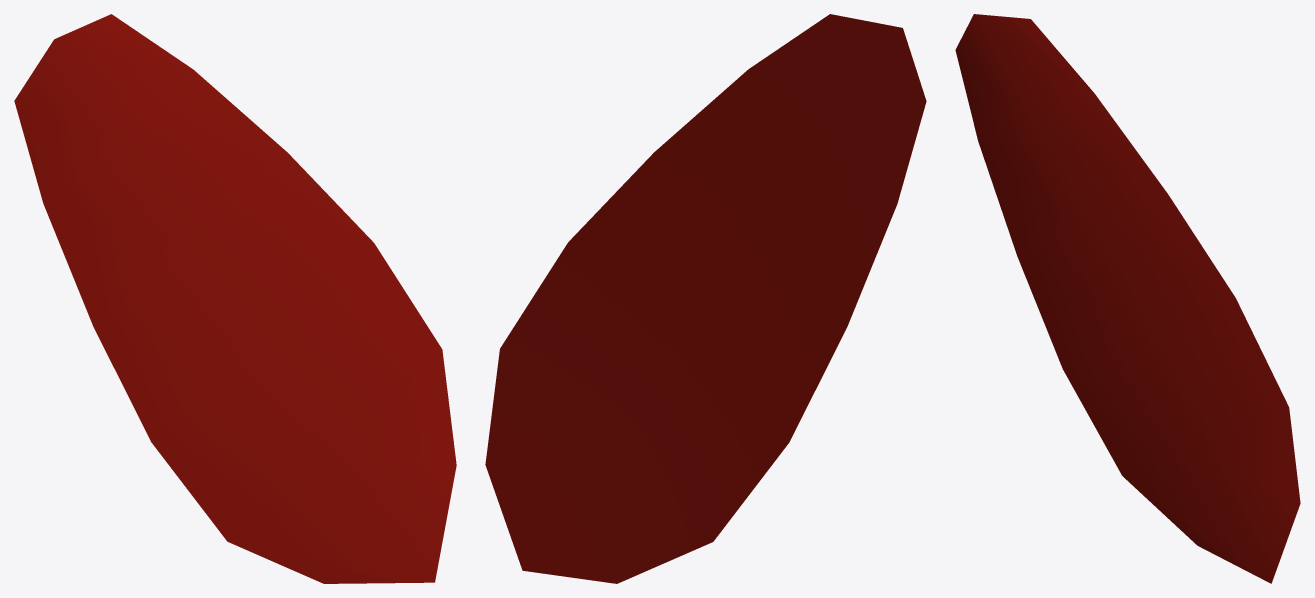
File: ara_feather_flight_tertiary_025.obj
3 views of the same model, side by side, from view 1: azimuth 30°, elevation 25°; view 2: azimuth 150°, elevation 25°; view 3: azimuth 330°, elevation 25° (orthographic). The views are drawn at different scales.
Parts seen in each view (by area): view 1: feather_flight_tertiary_025; view 2: feather_flight_tertiary_025; view 3: feather_flight_tertiary_025.
Part boxes in pixels (x1,y1,x2,y2): feather_flight_tertiary_025: [14, 14, 456, 583]; feather_flight_tertiary_025: [485, 14, 926, 583]; feather_flight_tertiary_025: [955, 14, 1300, 583].
Bounding box in the file's own units: 0.0233 × 0.0322 × 0.00076.
